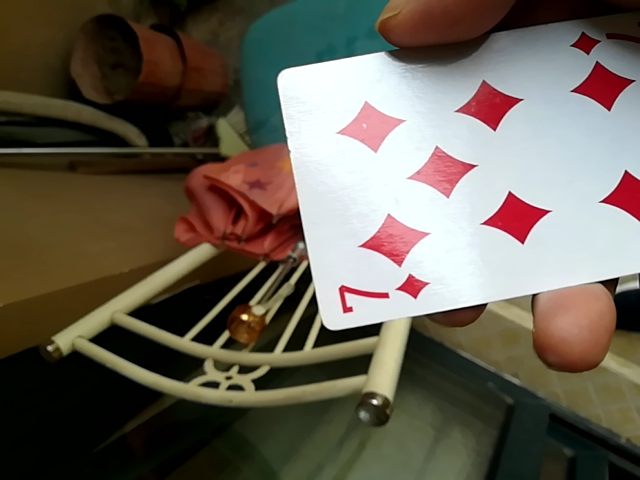fk 7: (273, 12, 636, 329)
